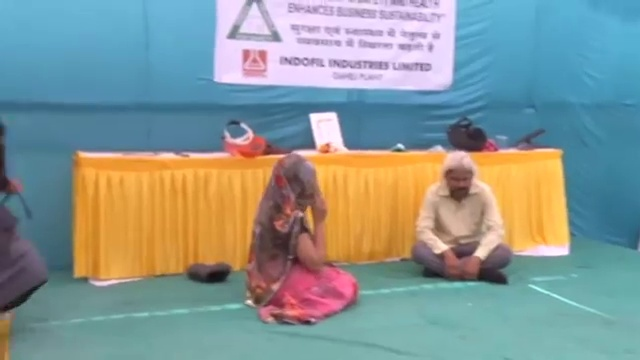helmet_off: (268, 156, 321, 208), (441, 156, 477, 201)
person: (243, 155, 359, 325), (411, 152, 514, 285)
